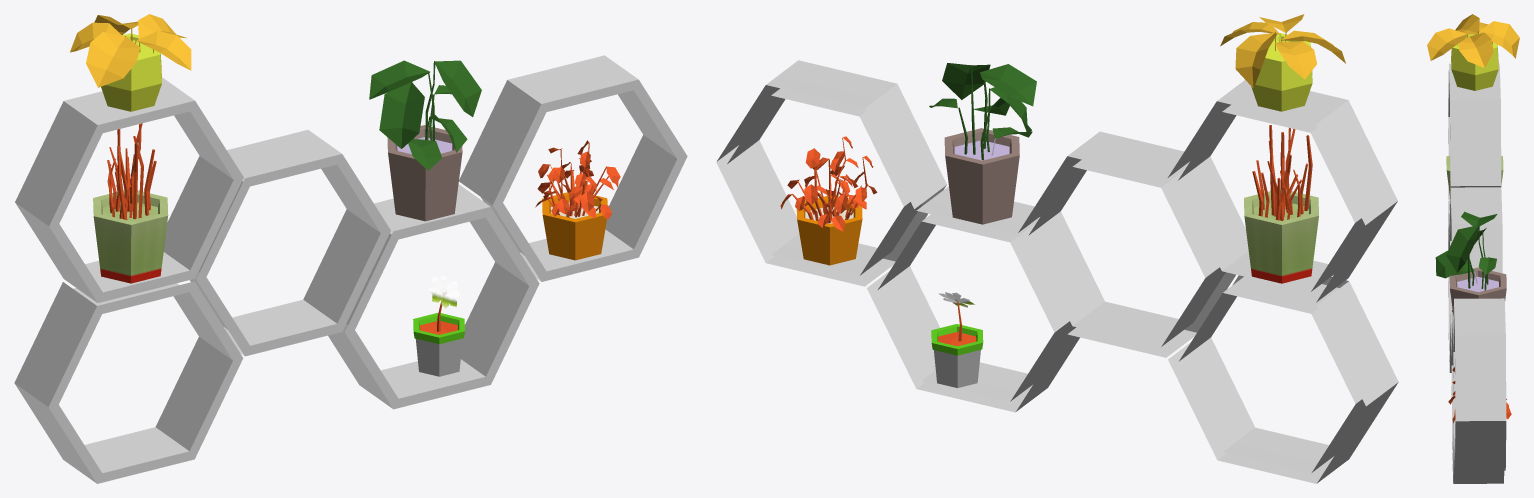
File: BookShelf4.fbx
3 renders of one model, left to right at view 1: azimuth 30°, elevation 25°; view 2: azimuth 150°, elevation 25°; view 3: azimuth 270°, elevation 25°, orthographic. The views are drawn at different scales.
Visible parts, largest first — view 1: BookShelf4; view 2: BookShelf4; view 3: BookShelf4.
Boxes of the visible parts, <box> form: BookShelf4: <box>14,14,687,483</box>; BookShelf4: <box>716,14,1398,483</box>; BookShelf4: <box>1427,14,1519,483</box>.
Size of the model in its own units: 59.5 by 38.37 by 9.74.
